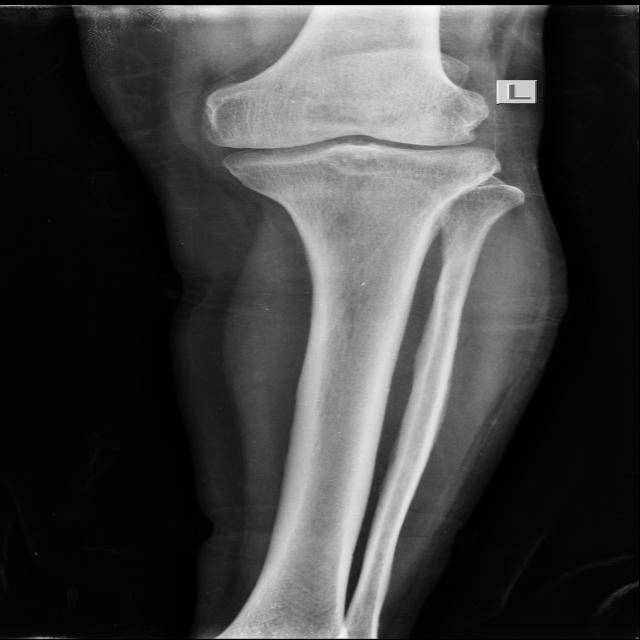normal: (202, 84, 509, 188)
